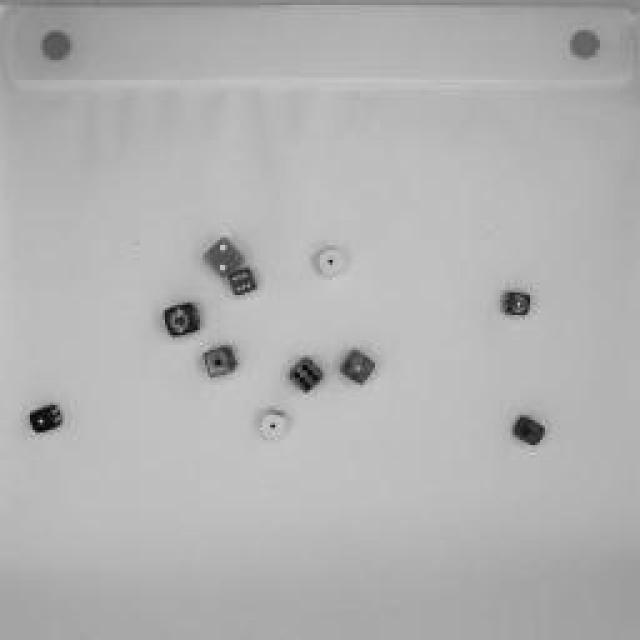dice_1: (161, 299, 204, 339), (201, 340, 241, 378), (339, 347, 376, 385), (310, 241, 345, 279), (25, 400, 63, 435), (258, 404, 292, 438), (511, 418, 549, 448), (501, 290, 531, 320)
dice_2: (198, 234, 242, 274)
dice_6: (288, 355, 330, 395), (228, 270, 258, 295)
